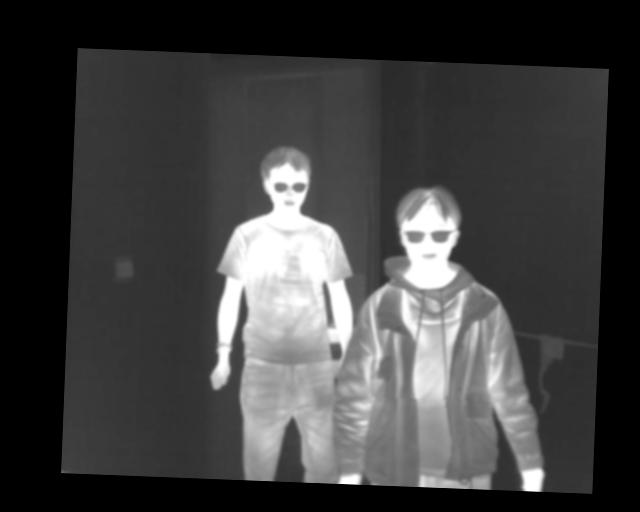face: (394, 184, 463, 272), (259, 145, 312, 214)
